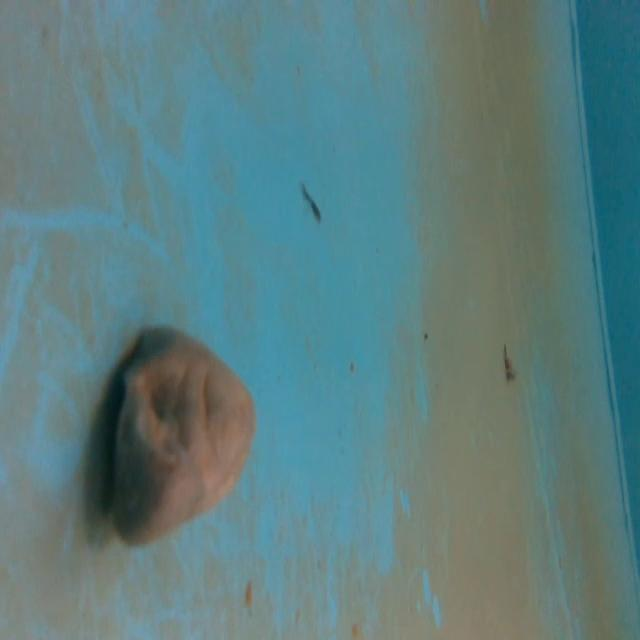rock: (104, 316, 261, 558)
